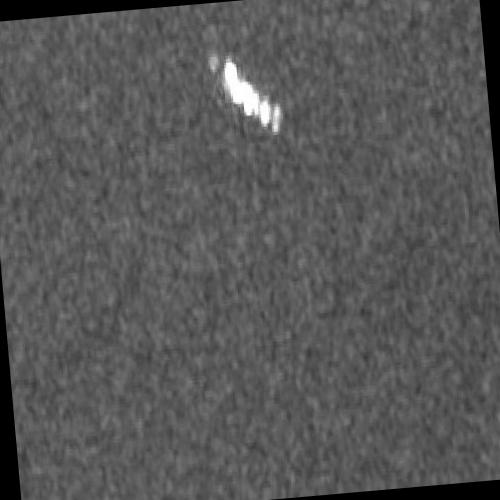ship: (221, 58, 282, 132)
